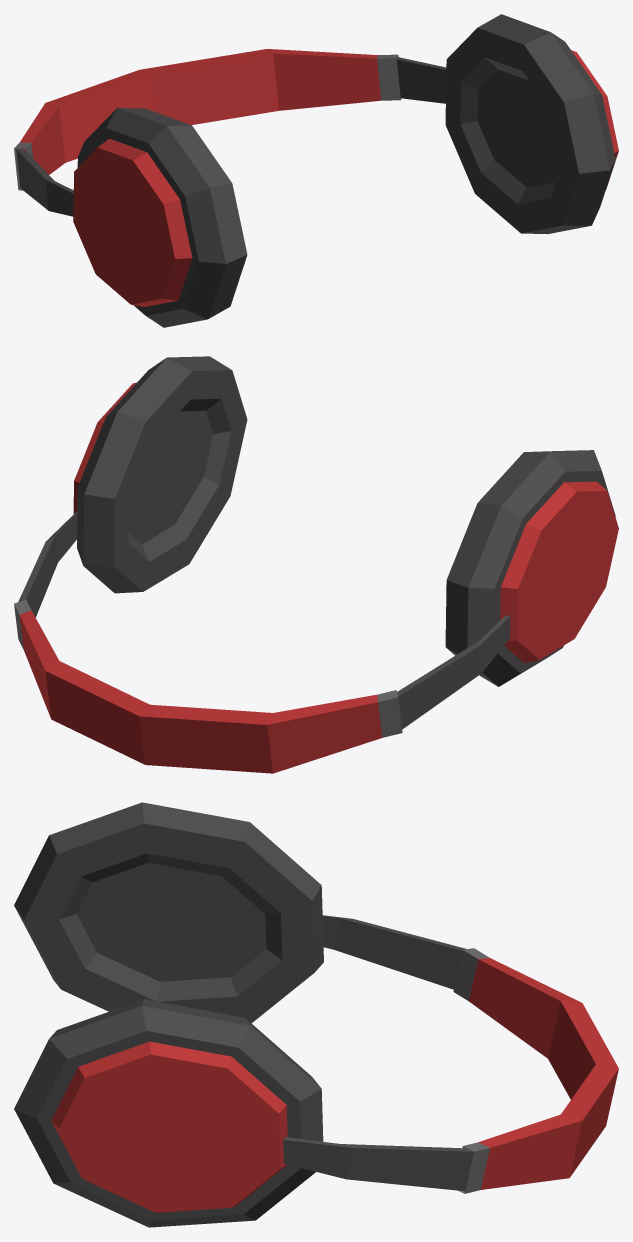
Rendered from Headphones.fbx.
3 renders of one model, top to bottom at view 1: azimuth 30°, elevation 25°; view 2: azimuth 150°, elevation 25°; view 3: azimuth 270°, elevation 25°, orthographic. The views are drawn at different scales.
Parts seen in each view (by area): view 1: Headphones; view 2: Headphones; view 3: Headphones.
Part boxes in pixels (x1,y1,x2,y2): Headphones: (14,14,618,327); Headphones: (14,356,618,773); Headphones: (14,802,618,1227).
Bounding box in the file's own units: 17.59 × 19.12 × 7.74.
